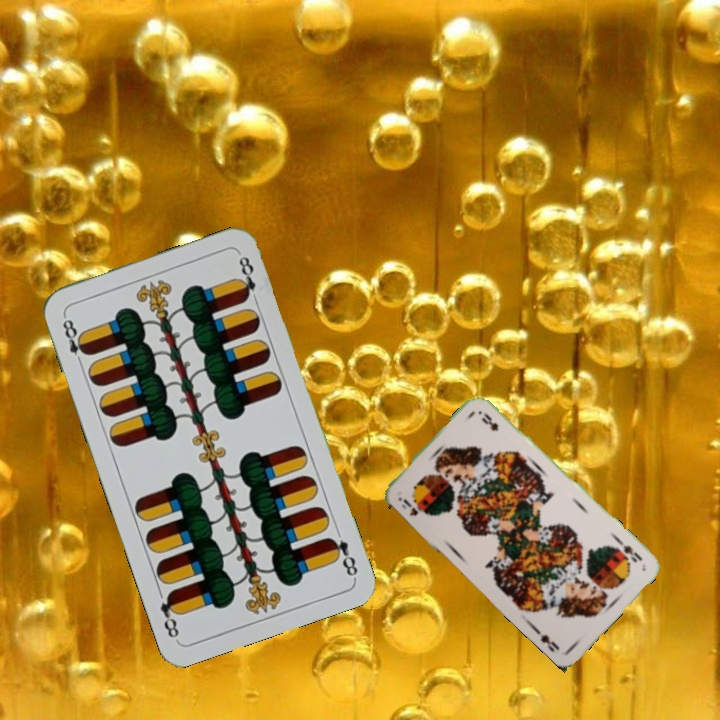E8: (58, 311, 92, 369), (324, 533, 360, 580)
SO: (613, 536, 645, 565), (397, 495, 421, 518)
